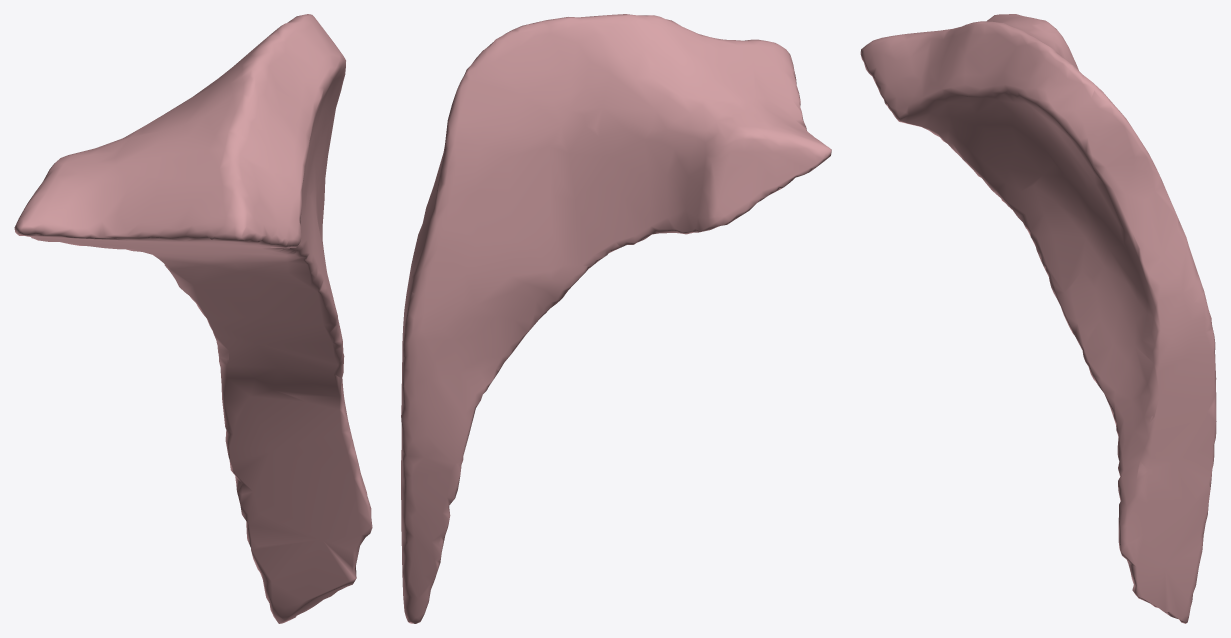
Rendered from fma61106_mm1276.glb.
The picture shows the model from 3 angles, left to right: view 1: azimuth 30°, elevation 25°; view 2: azimuth 150°, elevation 25°; view 3: azimuth 270°, elevation 25°; orthographic projection. The views are drawn at different scales.
Visible parts, largest first — view 1: FMA61106_MM1276; view 2: FMA61106_MM1276; view 3: FMA61106_MM1276.
Part boxes in pixels (left/top/right/bottom): FMA61106_MM1276: left=14, top=14, right=372, bottom=623; FMA61106_MM1276: left=401, top=14, right=831, bottom=623; FMA61106_MM1276: left=860, top=14, right=1216, bottom=623.
Size of the model in its own units: 0.0204 by 0.0307 by 0.0182.
